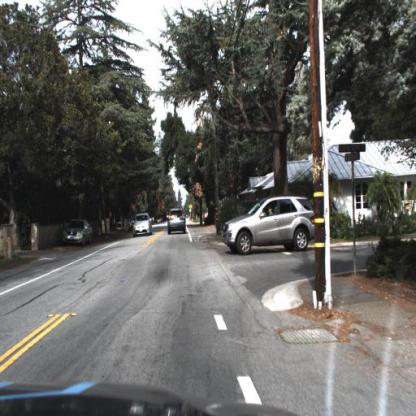car: (222, 197, 316, 251), (56, 211, 97, 252), (61, 217, 93, 244), (167, 207, 187, 237), (133, 212, 154, 240)
